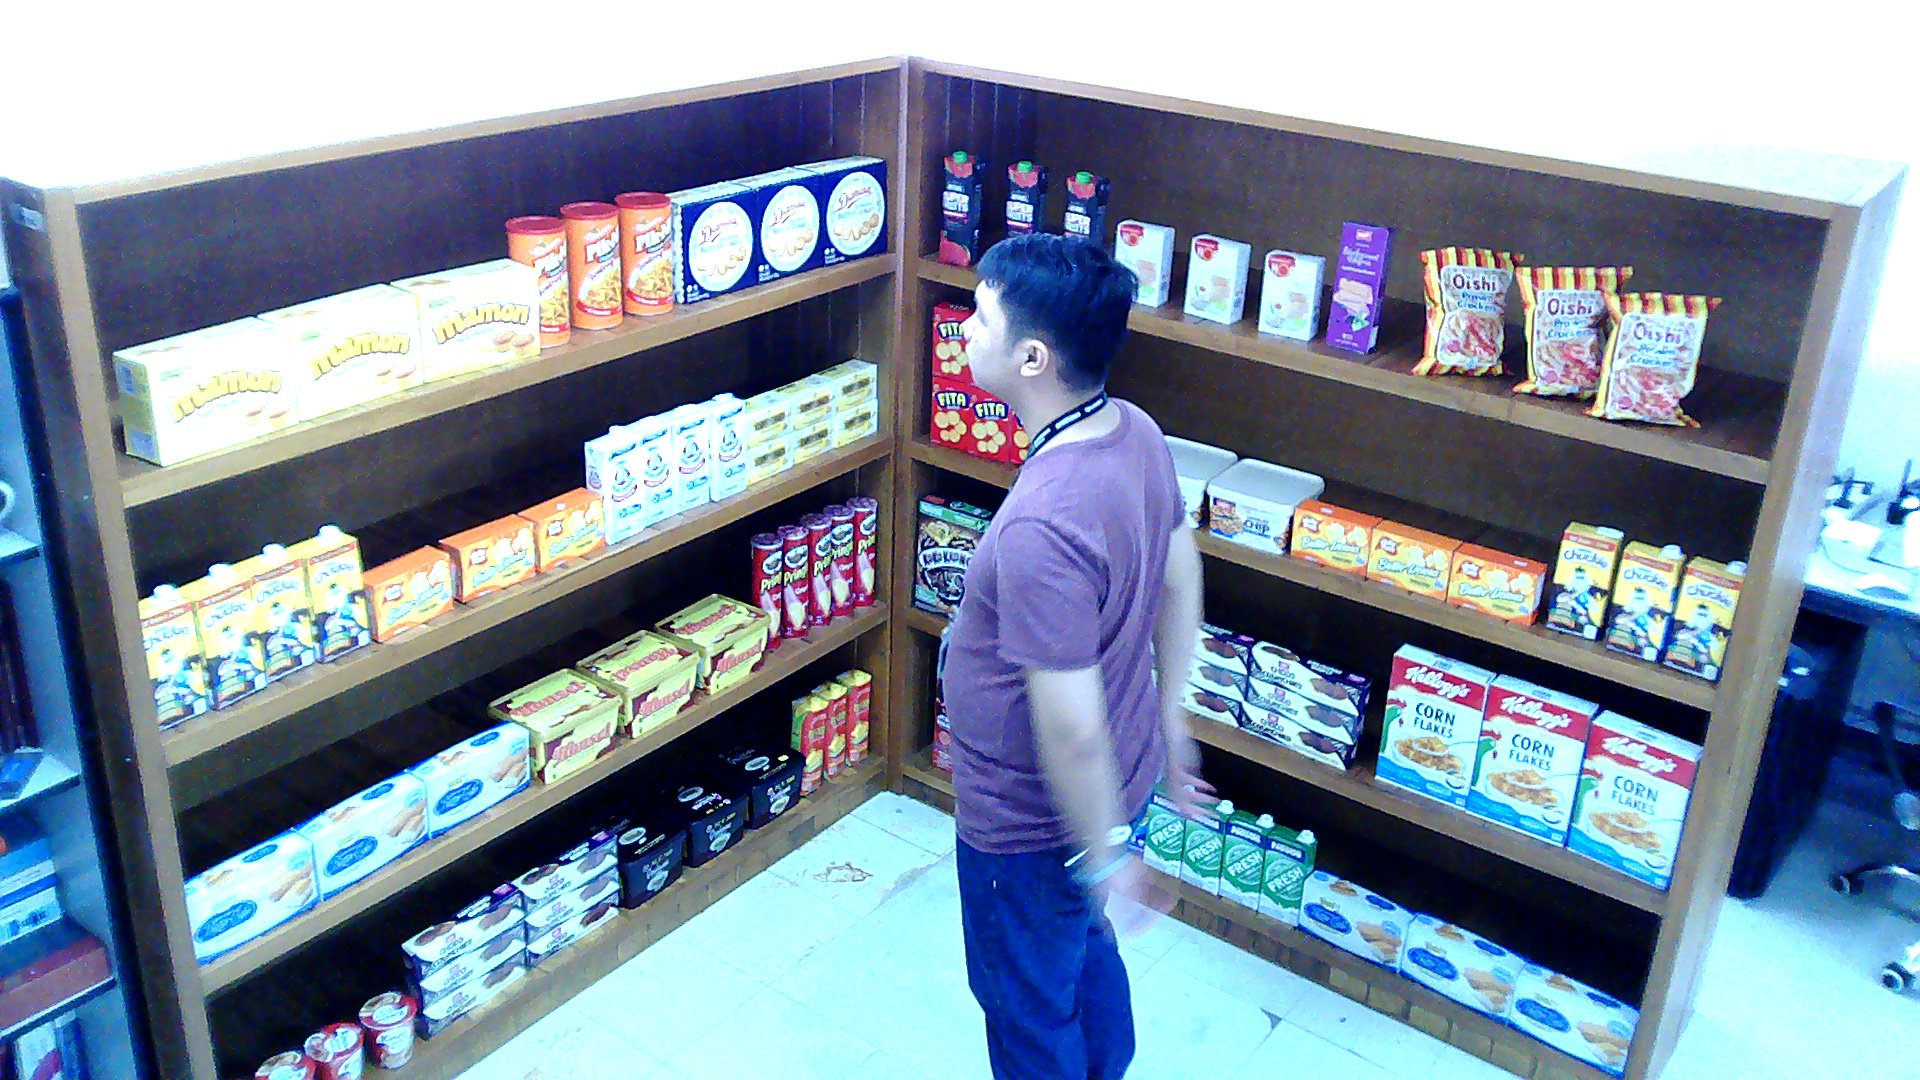Bear brand: (582, 425, 642, 544), (621, 416, 675, 526), (654, 405, 708, 513), (696, 394, 744, 502)
Buttercake: (183, 828, 318, 968), (291, 770, 426, 900), (1506, 958, 1638, 1077), (1398, 908, 1527, 1023), (408, 719, 528, 836), (1296, 866, 1416, 972)
Butterlicious: (363, 544, 453, 641), (1446, 540, 1548, 626), (438, 513, 534, 603), (1365, 517, 1461, 600), (515, 486, 602, 572), (1290, 497, 1380, 573)
Camomille: (771, 374, 834, 430), (813, 358, 876, 412), (744, 392, 789, 448), (746, 432, 791, 484), (834, 398, 876, 447), (792, 416, 834, 463)
Choco Crunchies: (399, 879, 522, 980), (405, 920, 525, 1008), (413, 949, 524, 1039), (1247, 639, 1370, 715), (510, 830, 615, 916), (1245, 675, 1365, 745), (1238, 702, 1355, 770), (524, 863, 617, 942), (528, 890, 618, 969), (1194, 621, 1254, 673), (1188, 656, 1245, 699), (1185, 683, 1239, 726)
Chocolate Chips: (1206, 459, 1323, 553), (1164, 432, 1236, 526)
Chuckie: (174, 563, 264, 711), (285, 524, 369, 664), (230, 544, 311, 684), (1662, 556, 1746, 682), (135, 585, 207, 731), (1602, 540, 1686, 662), (1545, 519, 1623, 638)
Danisa: (666, 180, 759, 304), (729, 166, 825, 281), (795, 152, 885, 265)
Fita: (930, 299, 975, 380), (966, 385, 1011, 461), (929, 374, 968, 450)
Fresh Milk: (1257, 823, 1317, 926), (1218, 809, 1278, 908), (1178, 798, 1235, 895), (1143, 776, 1182, 877)
Grahams: (573, 796, 684, 909), (636, 761, 750, 869), (698, 728, 803, 827)
Hansel: (485, 665, 620, 782), (573, 628, 699, 738), (651, 591, 771, 694)
Head: (950, 224, 1139, 411)
Kellogg Corn Flakes: (1566, 709, 1704, 891), (1463, 673, 1598, 849), (1374, 641, 1494, 810)
Kimchi Noodles: (356, 992, 413, 1066), (303, 1022, 363, 1078), (252, 1050, 312, 1077)
Koko Krunch: (914, 491, 995, 619)
Locally Mango: (789, 693, 828, 794), (810, 679, 846, 780), (834, 666, 870, 765)
Mamon: (111, 314, 297, 465), (258, 281, 420, 421), (389, 256, 536, 382)
Oishi Prawn: (1584, 288, 1725, 425), (1512, 265, 1632, 400), (1410, 245, 1524, 375)
Pik-nik: (504, 213, 570, 346), (561, 200, 621, 328), (612, 189, 672, 315)
Pringles: (798, 512, 831, 625), (750, 530, 780, 647), (777, 524, 807, 639), (822, 503, 852, 616), (846, 495, 876, 605)
Super Fruits: (936, 150, 984, 265), (1002, 160, 1050, 236), (1064, 171, 1109, 247)
Wafer: (1326, 220, 1395, 353)
iHop: (1256, 248, 1325, 340), (1185, 234, 1251, 324), (1113, 218, 1173, 306)
